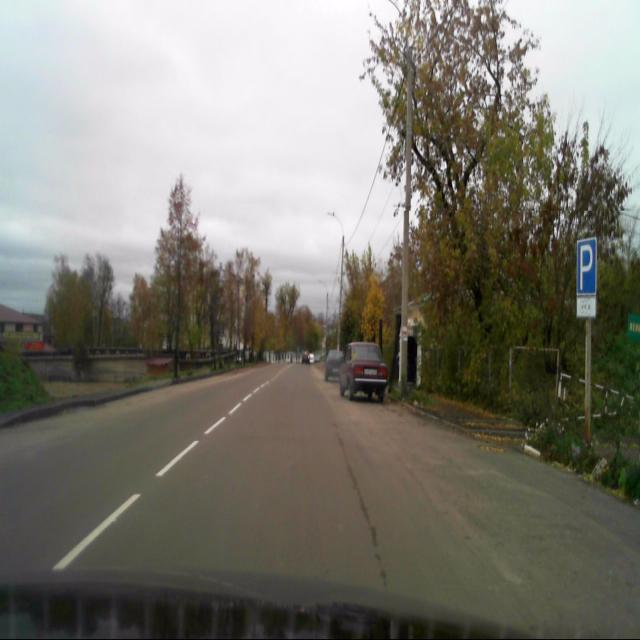road sign: (576, 236, 596, 295), (576, 298, 597, 318)
